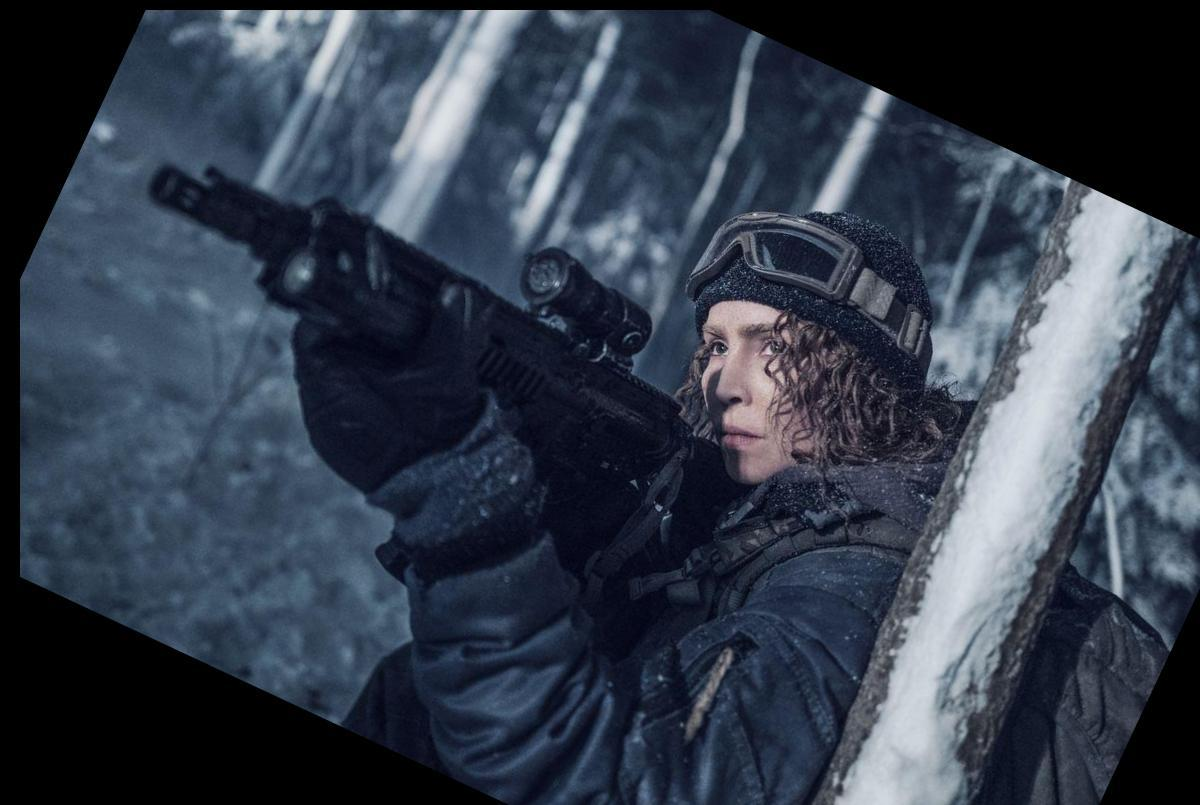larga: (147, 162, 691, 477)
